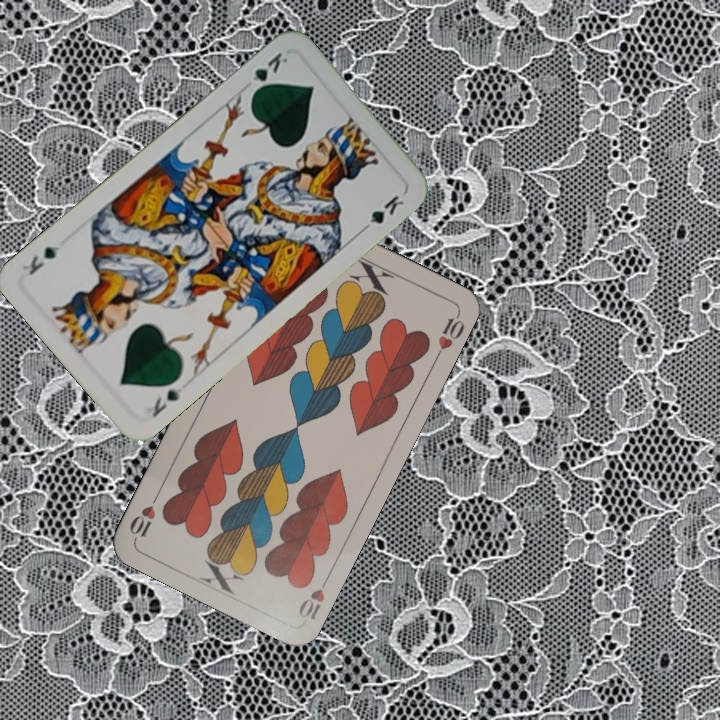GK: (247, 48, 291, 97), (148, 383, 185, 420)
H10: (294, 570, 333, 623)
